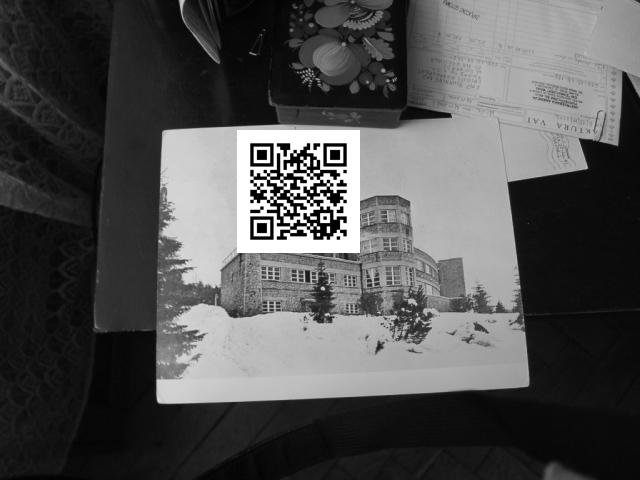qr_code: (238, 130, 359, 251)
